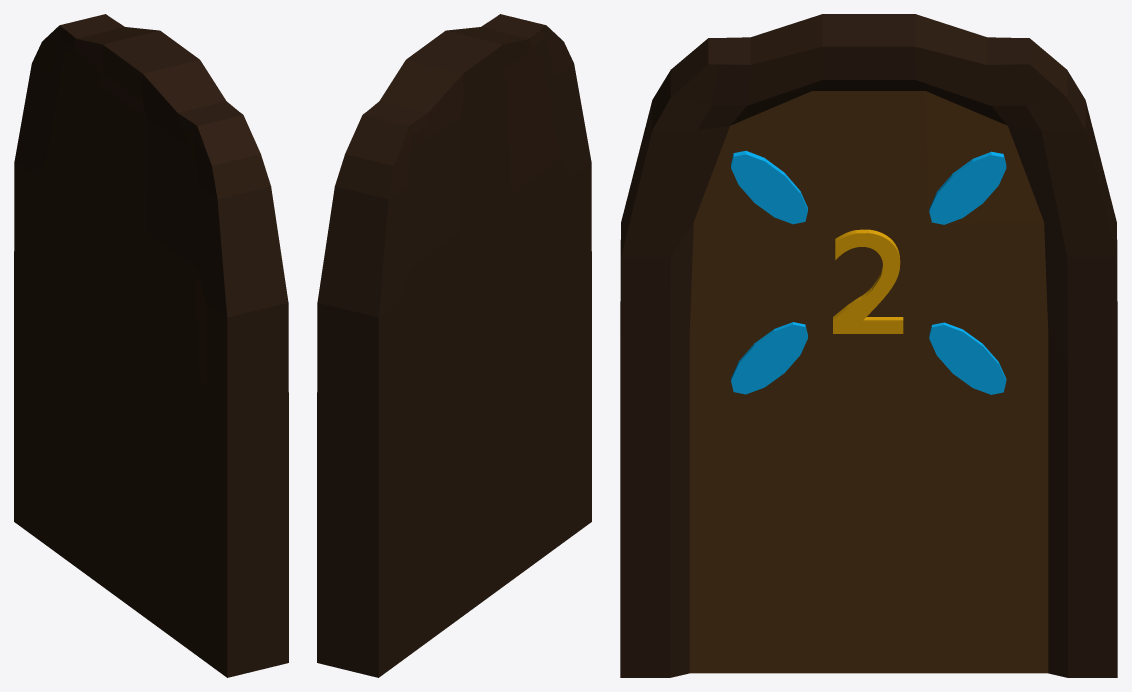
File: Door2.glb
3 views of the same model, side by side, from view 1: azimuth 30°, elevation 25°; view 2: azimuth 150°, elevation 25°; view 3: azimuth 270°, elevation 25° (orthographic). The views are drawn at different scales.
Visible parts, largest first — view 1: door1; view 2: door1; view 3: door1, 2.
Boxes of the visible parts, <box> form: door1: <box>14,14,288,677</box>; door1: <box>317,14,591,677</box>; door1: <box>620,14,1117,677</box>; 2: <box>833,229,903,333</box>.
Bounding box in the file's own units: 0.3892 × 3.27 × 2.34.
